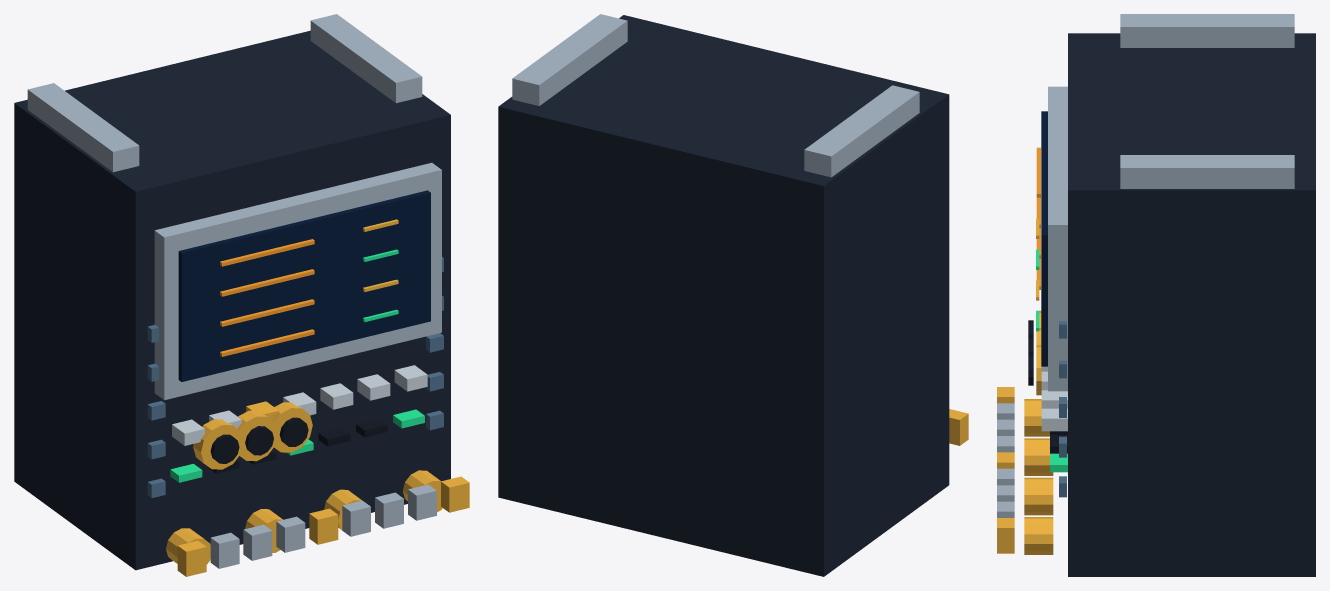
Rendered from 69_L85_CriticalClosingRateFeedbackStation.fbx.
3 renders of one model, left to right at view 1: azimuth 30°, elevation 25°; view 2: azimuth 150°, elevation 25°; view 3: azimuth 270°, elevation 25°, orthographic. The views are drawn at different scales.
Parts seen in each view (by area): view 1: L85_CriticalClosingRateFeedbackStation, L85_CriticalClosingRateFeedbackStation_Part_0010, L85_CriticalClosingRateFeedbackStation_Part_0012, L85_CriticalClosingRateFeedbackStation_Part_0014, L85_CriticalClosingRateFeedbackStation_Part_0011, L85_CriticalClosingRateFeedbackStation_Part_0013, L85_CriticalClosingRateFeedbackStation_Part_0015; view 2: L85_CriticalClosingRateFeedbackStation; view 3: L85_CriticalClosingRateFeedbackStation.
Boxes of the visible parts, <box> form: L85_CriticalClosingRateFeedbackStation: <box>14,14,469,576</box>; L85_CriticalClosingRateFeedbackStation_Part_0010: <box>193,419,243,469</box>; L85_CriticalClosingRateFeedbackStation_Part_0012: <box>237,410,278,461</box>; L85_CriticalClosingRateFeedbackStation_Part_0014: <box>272,402,312,452</box>; L85_CriticalClosingRateFeedbackStation_Part_0011: <box>210,434,239,463</box>; L85_CriticalClosingRateFeedbackStation_Part_0013: <box>245,426,273,455</box>; L85_CriticalClosingRateFeedbackStation_Part_0015: <box>279,417,308,446</box>; L85_CriticalClosingRateFeedbackStation: <box>498,14,968,576</box>; L85_CriticalClosingRateFeedbackStation: <box>997,14,1315,576</box>.
Size of the model in its own units: 95.88 by 116 by 82.21.
